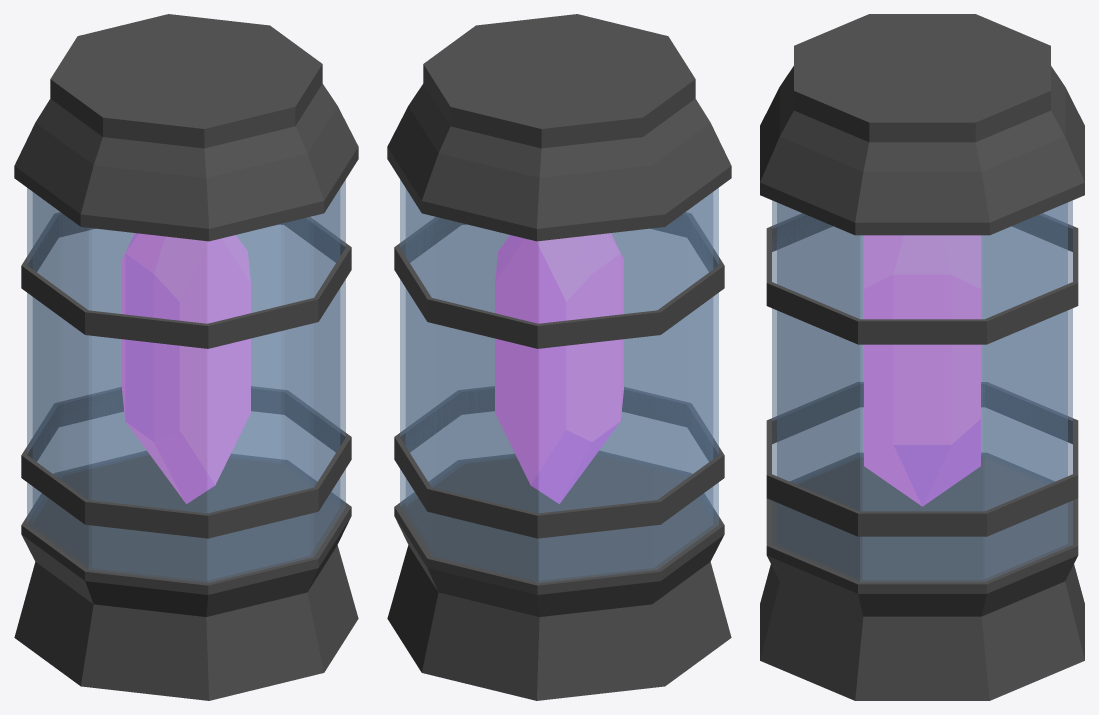
Rendered from SteamPunkCylinder.fbx.
3 views of the same model, side by side, from view 1: azimuth 30°, elevation 25°; view 2: azimuth 150°, elevation 25°; view 3: azimuth 270°, elevation 25° (orthographic).
Visible parts, largest first — view 1: Glass, Main, Top, Crystal, Line01, Line02; view 2: Glass, Main, Top, Crystal, Line01, Line02; view 3: Glass, Top, Main, Crystal, Line01, Line02.
Boxes of the visible parts, x1,y1,x2,y2 form: Glass: [27, 179, 345, 582]; Main: [14, 451, 358, 700]; Top: [14, 14, 358, 241]; Crystal: [122, 233, 250, 503]; Line01: [21, 386, 351, 538]; Line02: [21, 212, 351, 348]; Glass: [400, 179, 718, 582]; Main: [387, 451, 731, 700]; Top: [387, 14, 731, 241]; Crystal: [495, 233, 623, 503]; Line01: [394, 386, 724, 538]; Line02: [394, 212, 724, 348]; Glass: [772, 200, 1072, 581]; Top: [760, 14, 1084, 235]; Main: [760, 453, 1084, 700]; Crystal: [864, 235, 980, 506]; Line01: [766, 382, 1078, 536]; Line02: [766, 213, 1078, 344].
Size of the model in its own units: 1.56 by 2.98 by 1.56.
